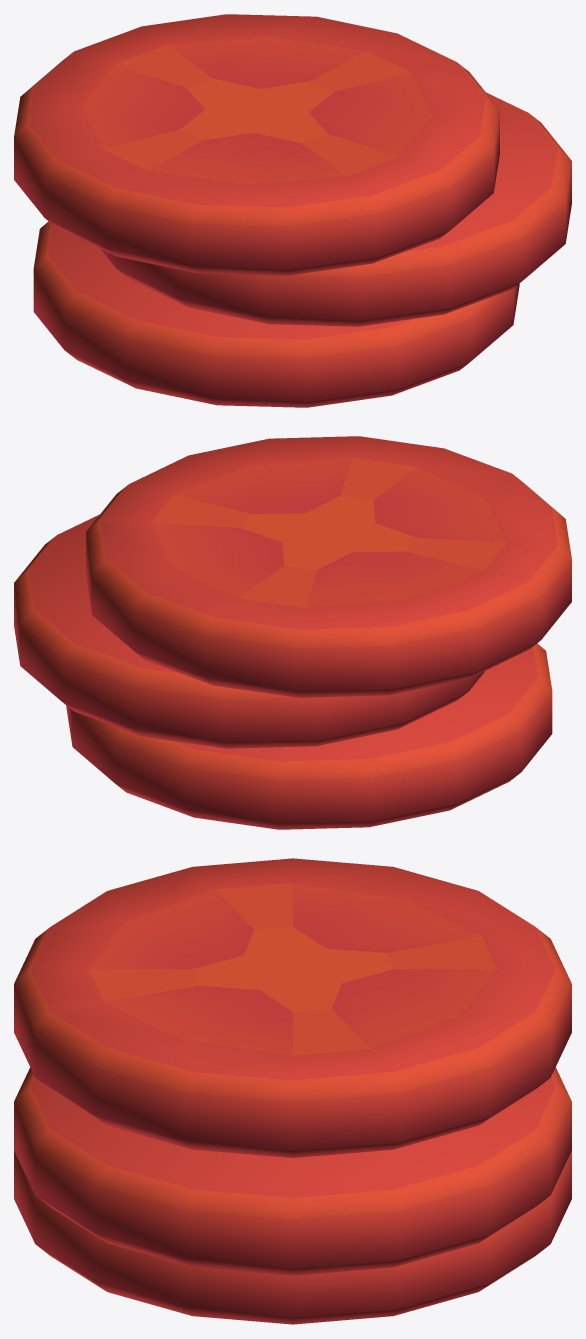
File: kay-food_ingredient_tomato_slices.glb
3 views of the same model, one above another, from view 1: azimuth 30°, elevation 25°; view 2: azimuth 150°, elevation 25°; view 3: azimuth 270°, elevation 25° (orthographic). The views are drawn at different scales.
Visible parts, largest first — view 1: food_ingredient_tomato_slices; view 2: food_ingredient_tomato_slices; view 3: food_ingredient_tomato_slices.
Part boxes in pixels (x1=…): food_ingredient_tomato_slices: x1=14, y1=14, x2=571, y2=407; food_ingredient_tomato_slices: x1=14, y1=436, x2=571, y2=829; food_ingredient_tomato_slices: x1=14, y1=858, x2=571, y2=1324.
Size of the model in its own units: 0.22 by 0.0868 by 0.1882.
1 material, 1 textured.
